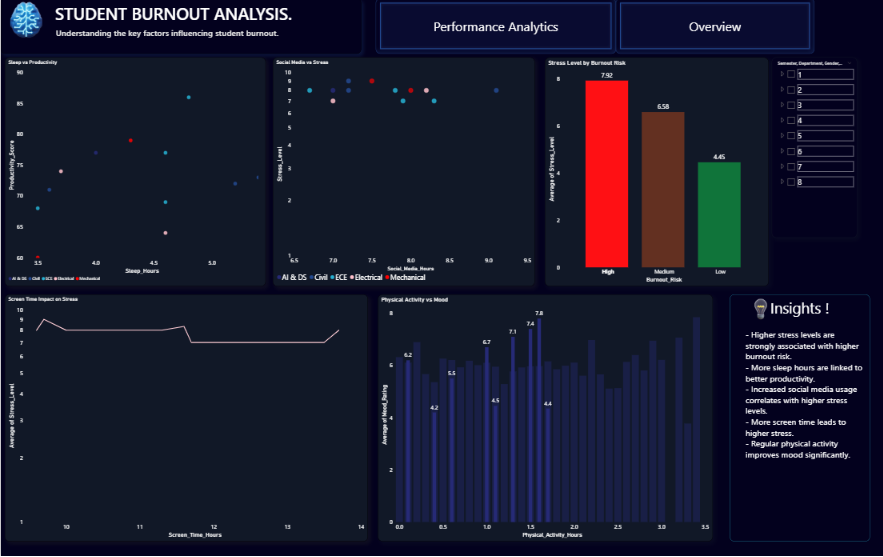

The page's visual inventory and layout, read from the dashboard file:
{"tool":"powerbi","page":{"name":"Burnout Analysis","canvas":[2850,1800],"ordinal":1},"visuals":[{"type":"textbox","box":[0,0,1162.5,178.1],"z":0},{"type":"image","box":[0,0,164.6,135.4],"z":1000},{"type":"clusteredColumnChart","title":"Stress Level by Burnout Risk","fields":{"Category":["Students.Burnout_Risk"],"Y":["Avg(Students.Stress_Level)"]},"box":[1754.8,190.3,722.6,738.7],"z":2000},{"type":"scatterChart","title":"Sleep vs Productivity","fields":{"X":["Students.Sleep_Hours"],"Y":["Students.Productivity_Score"],"Series":["Students.Department"]},"box":[12.9,190.3,841.9,738.7],"z":3000},{"type":"scatterChart","title":"Social Media vs Stress","fields":{"Series":["Students.Department"],"Y":["Students.Stress_Level"],"X":["Students.Social_Media_Hours"]},"box":[877.4,190.3,845.2,738.7],"z":4000},{"type":"lineChart","title":"Screen Time Impact on Stress","fields":{"Category":["Students.Screen_Time_Hours"],"Y":["Avg(Students.Stress_Level)"]},"box":[12.9,954.8,1171,796.8],"z":5000},{"type":"clusteredColumnChart","title":"Physical Activity vs Mood","fields":{"Category":["Students.Physical_Activity_Hours"],"Y":["Avg(Students.Mood_Rating)"]},"box":[1216.1,954.8,1080.6,796.8],"z":6000},{"type":"textbox","box":[2351.6,954.8,451.6,796.8],"z":8000},{"type":"image","box":[2190.3,954.8,522.6,90.3],"z":9000},{"type":"actionButton","box":[1209.4,0,775,178.1],"z":9001},{"type":"actionButton","box":[1984.4,0,640.6,178.1],"z":9002},{"type":"slicer","fields":{"Values":["Students.Semester","Students.Department","Students.Gender","Students.Burnout_Risk"]},"box":[2487.5,190.6,275,581.2],"z":9003}]}

Visuals, with their boxes in screenshot pixels (x1, y1, x2, y2), scaled from the page's 2850x1800 canvas onto the 883x557 screenshot:
textbox: [left=0, top=0, right=360, bottom=55]
image: [left=0, top=0, right=51, bottom=42]
"Stress Level by Burnout Risk" clusteredColumnChart: [left=544, top=59, right=768, bottom=287]
"Sleep vs Productivity" scatterChart: [left=4, top=59, right=265, bottom=287]
"Social Media vs Stress" scatterChart: [left=272, top=59, right=534, bottom=287]
"Screen Time Impact on Stress" lineChart: [left=4, top=295, right=367, bottom=542]
"Physical Activity vs Mood" clusteredColumnChart: [left=377, top=295, right=712, bottom=542]
textbox: [left=729, top=295, right=869, bottom=542]
image: [left=679, top=295, right=841, bottom=323]
actionButton: [left=375, top=0, right=615, bottom=55]
actionButton: [left=615, top=0, right=813, bottom=55]
slicer - Students.Semester x Students.Department: [left=771, top=59, right=856, bottom=239]
